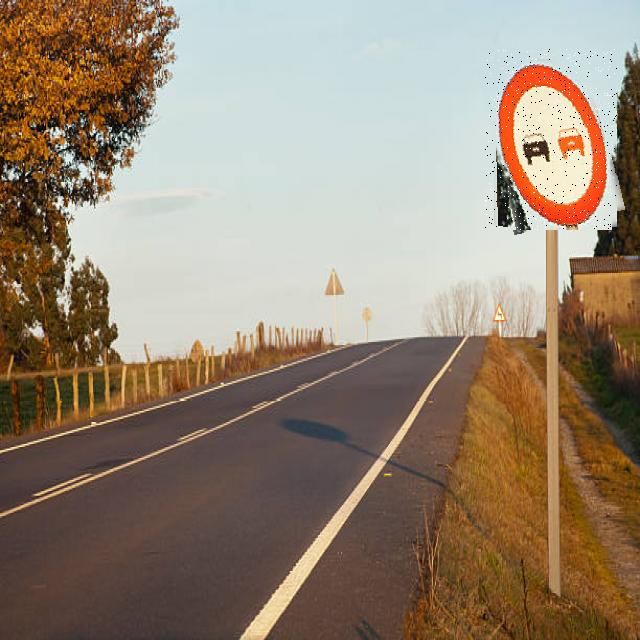no overtaking: (485, 48, 617, 230)
